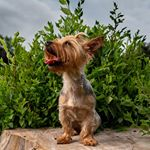puppy: (40, 29, 108, 149)
